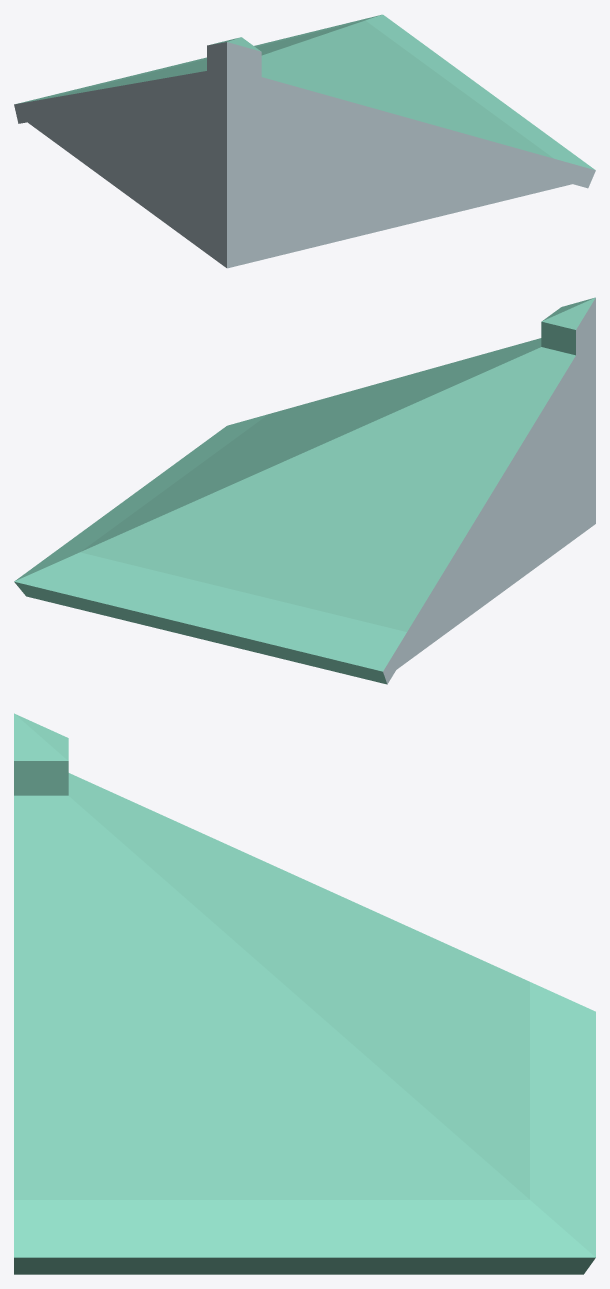
File: roof_corner.glb
3 views of the same model, one above another, from view 1: azimuth 30°, elevation 25°; view 2: azimuth 150°, elevation 25°; view 3: azimuth 270°, elevation 25° (orthographic). The views are drawn at different scales.
Visible parts, largest first — view 1: roofCorner; view 2: roofCorner; view 3: roofCorner.
Part boxes in pixels (x1,y1,x2,y2): roofCorner: (14,14,595,268); roofCorner: (14,297,595,684); roofCorner: (14,713,595,1274).
Size of the model in its own units: 1.07 by 0.6483 by 1.07.
